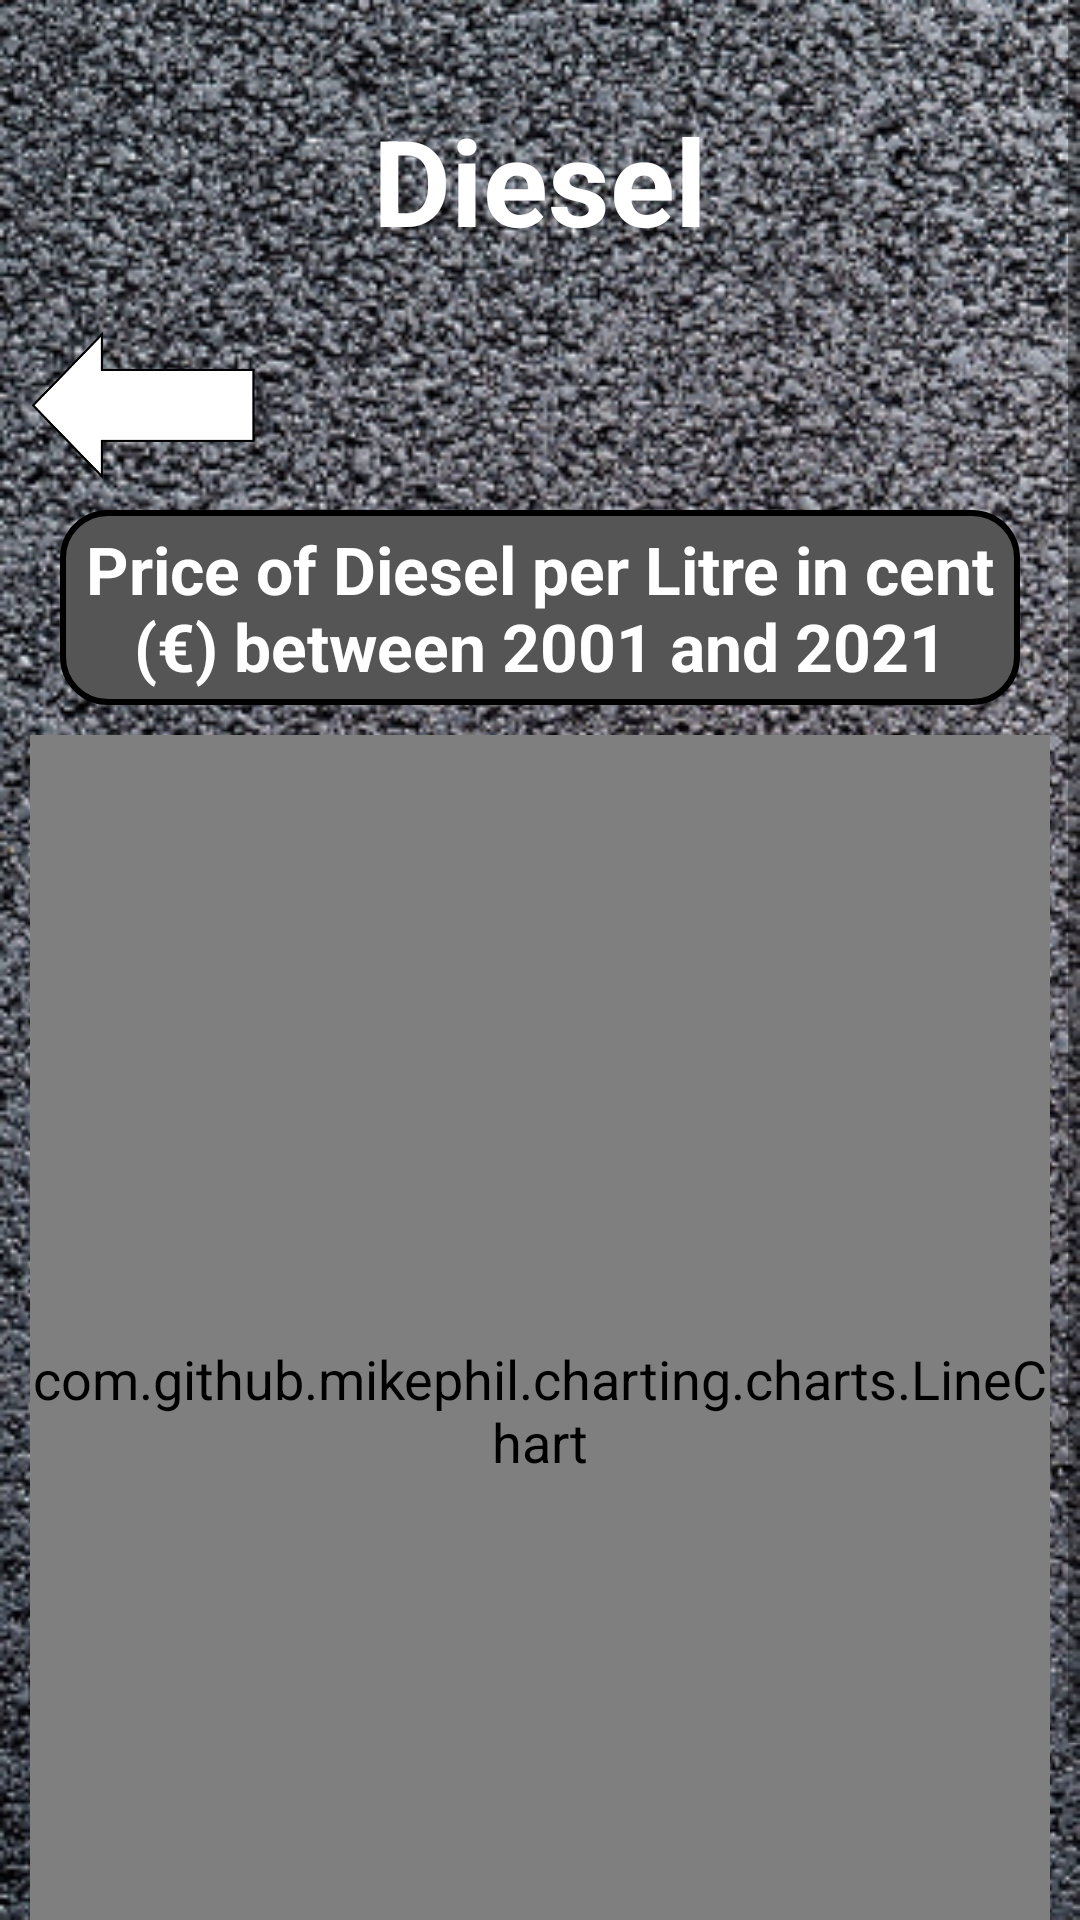

Point at icon controls on the screen. Image size 1080px x 1920px, points as (x=x, y=y).
Tap to go back: (x=142, y=405)
